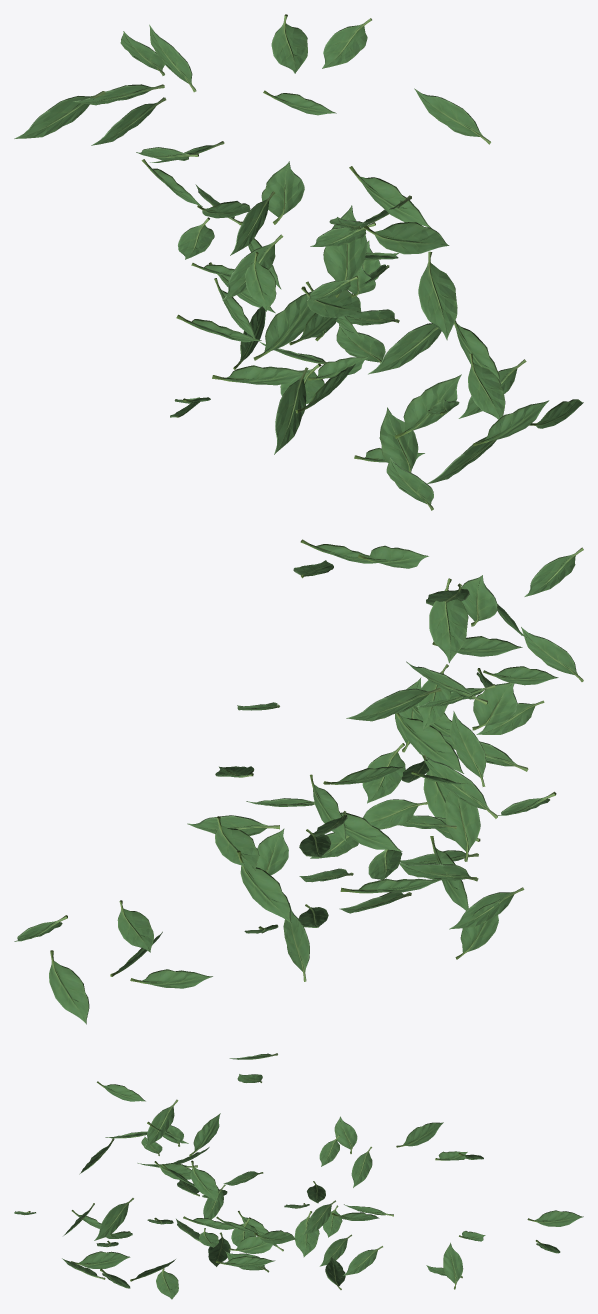
The model's file is holy_canopy5_full.glb.
The picture shows the model from 3 angles, top to bottom: view 1: azimuth 30°, elevation 25°; view 2: azimuth 150°, elevation 25°; view 3: azimuth 270°, elevation 25°; orthographic projection. The views are drawn at different scales.
Parts seen in each view (by area): view 1: holy_canopy5; view 2: holy_canopy5; view 3: holy_canopy5.
Part boxes in pixels (box(x1,y1,x2,y2)): holy_canopy5: box(14, 14, 583, 510); holy_canopy5: box(14, 539, 583, 1024); holy_canopy5: box(14, 1053, 583, 1299).
Size of the model in its own units: 8.42 by 11.9 by 26.
Materials: 1 (1 with a texture image).
